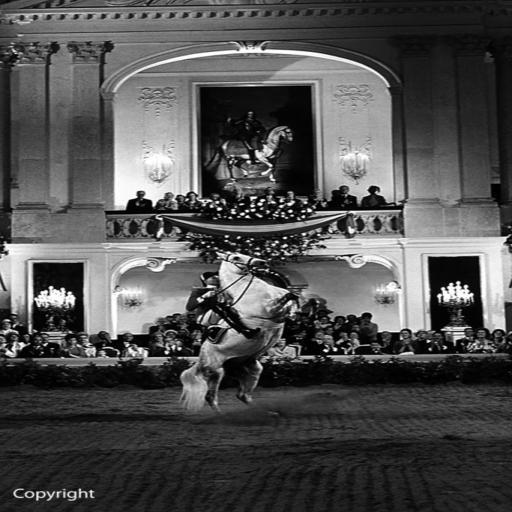horse: (178, 246, 324, 417)
